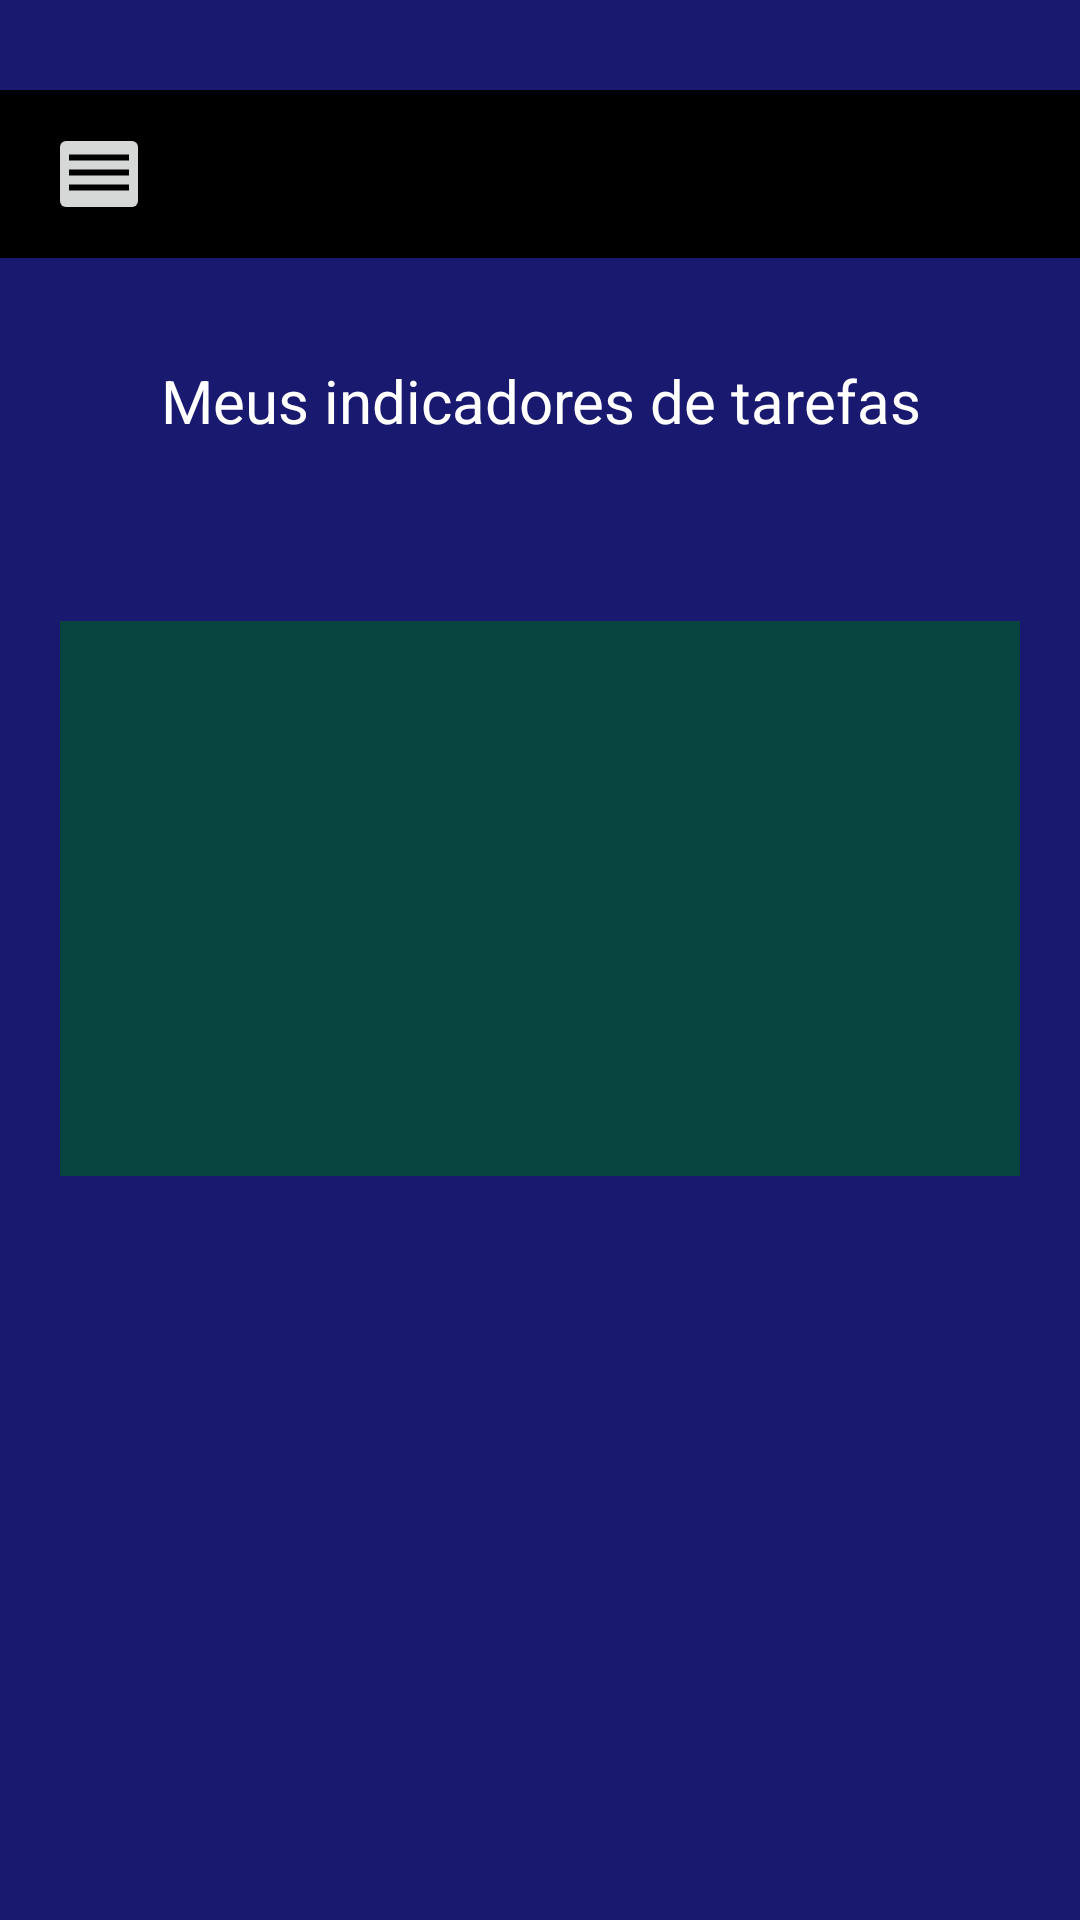

Where icons sit on this 1080×1920 app screen, as bbox(x1, y1, x2, y2):
menu: bbox(60, 141, 138, 207)
